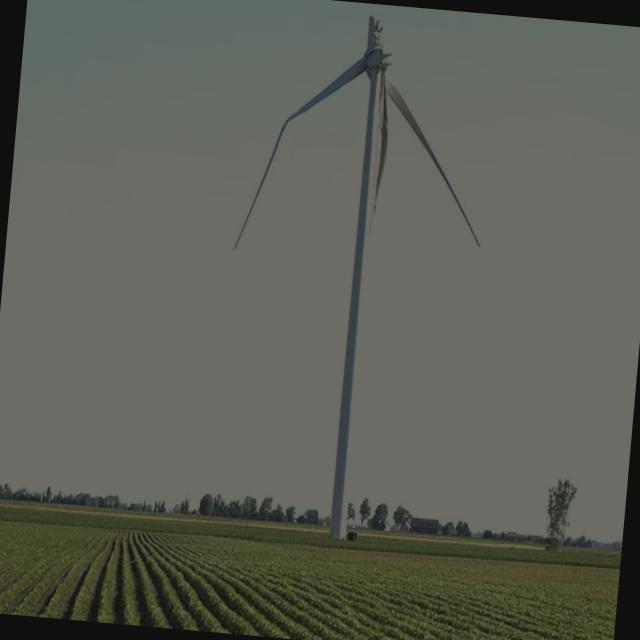crack: (339, 10, 414, 208), (222, 104, 308, 249)
